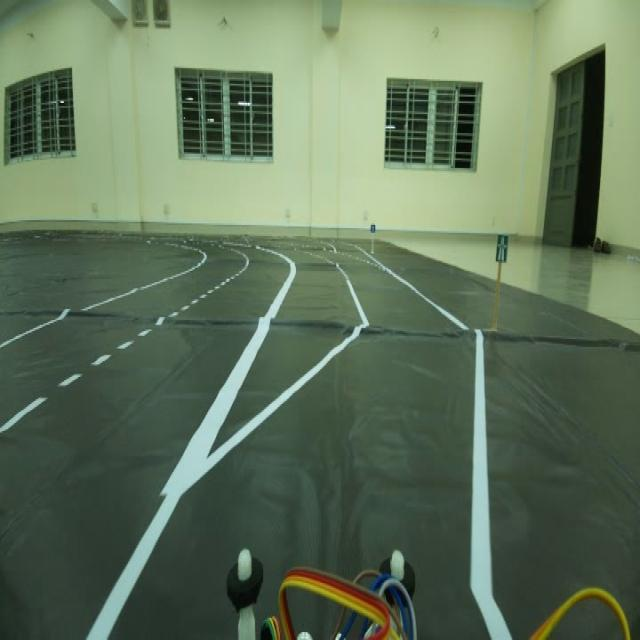highway_entry: (494, 222, 511, 263)
